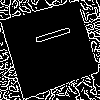I: (25, 22, 72, 50)
